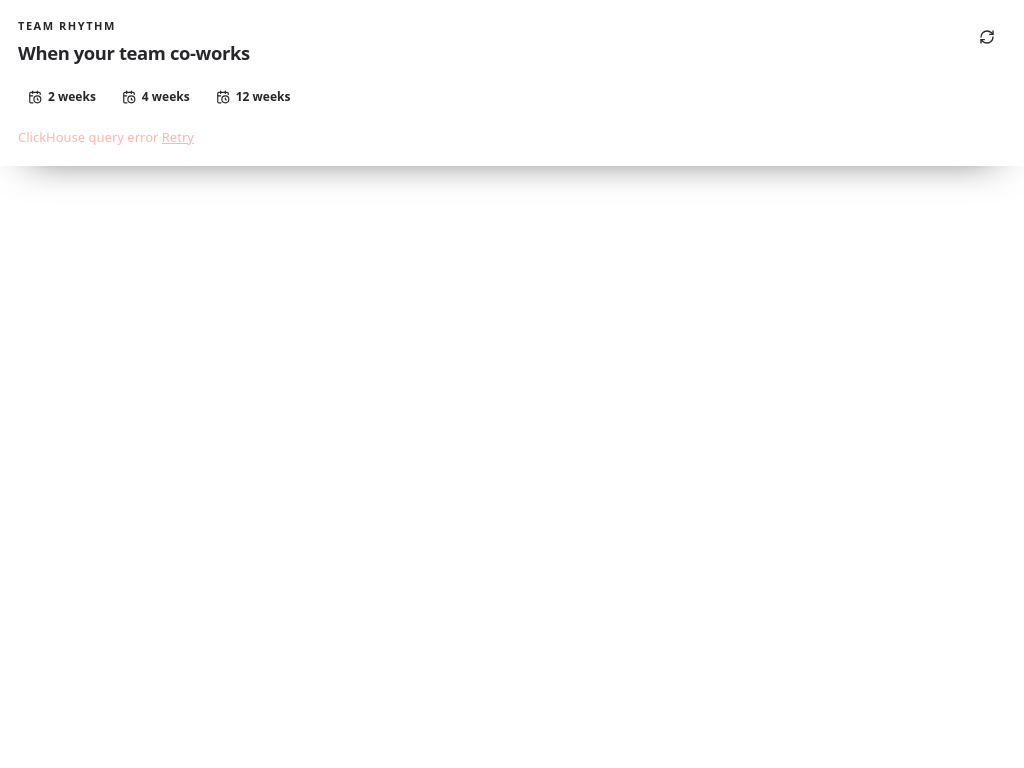
it: TeamRhythm › shows errors with a retry
expect the message shows "ClickHouse query error": met, box x1=18 y1=128 x2=158 y2=146
Click the button "Retry": [178, 138] box x1=162 y1=128 x2=194 y2=148
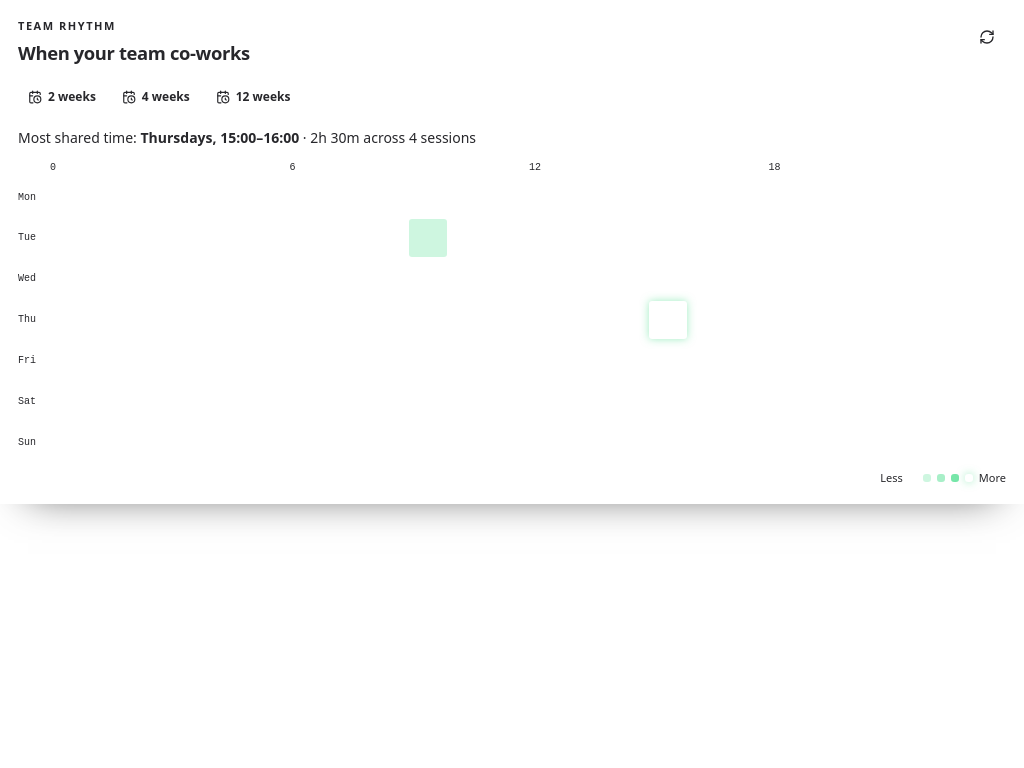
expect the text "Thursdays, 15:00–16:00" is shown: met, box x1=140 y1=128 x2=299 y2=147
Click the button named "Refresh team co-working": [987, 37] box x1=968 y1=18 x2=1006 y2=56
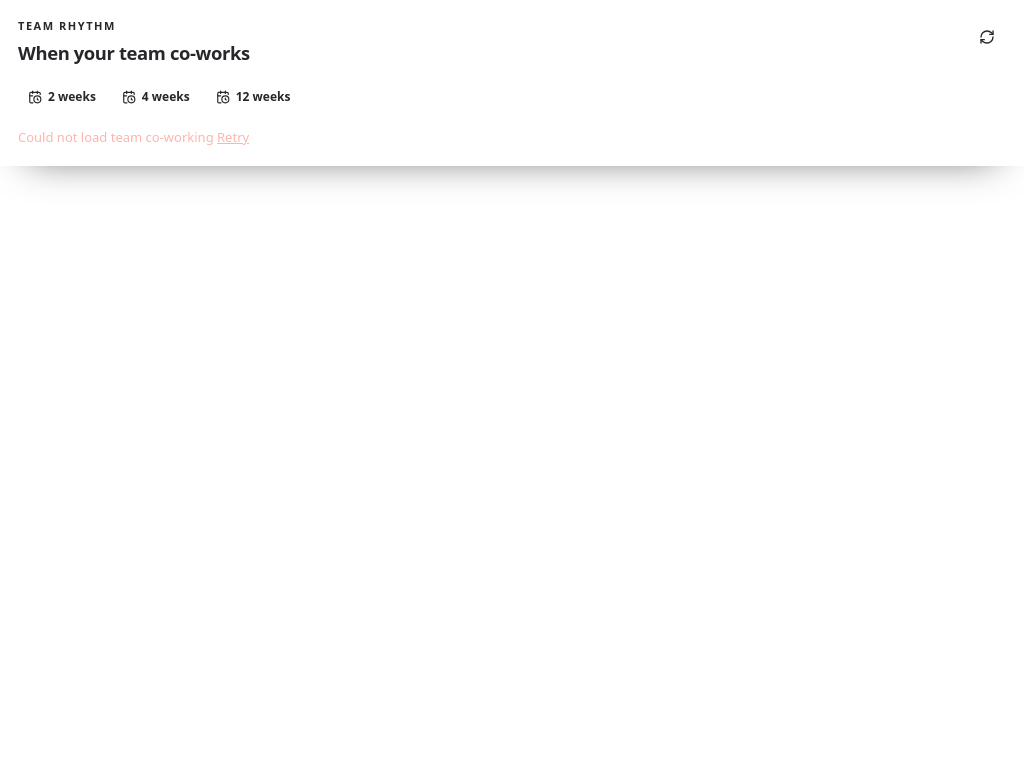
expect the message shows "Could not load team co-working": met, box x1=18 y1=128 x2=214 y2=146
